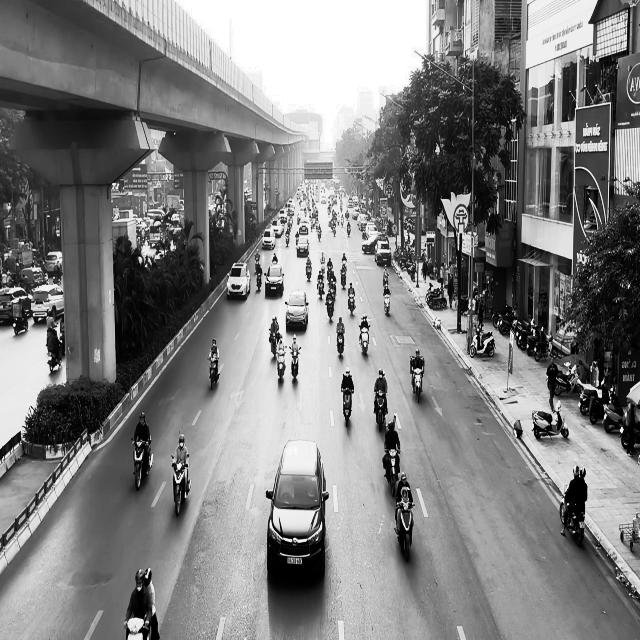car: (266, 438, 329, 578), (285, 290, 309, 329), (226, 262, 251, 299), (264, 262, 284, 297)
motorbike: (560, 485, 586, 546), (532, 399, 569, 440), (171, 453, 192, 516), (395, 499, 415, 562), (132, 436, 154, 491), (383, 447, 401, 496), (470, 325, 496, 357), (125, 616, 152, 640), (374, 390, 388, 432), (342, 386, 354, 426), (412, 367, 424, 402), (208, 355, 220, 389), (276, 346, 286, 382), (290, 346, 301, 378), (360, 324, 370, 356), (269, 329, 280, 358), (336, 326, 346, 356), (326, 292, 335, 321), (384, 289, 392, 315), (348, 292, 356, 315), (256, 272, 262, 290)
